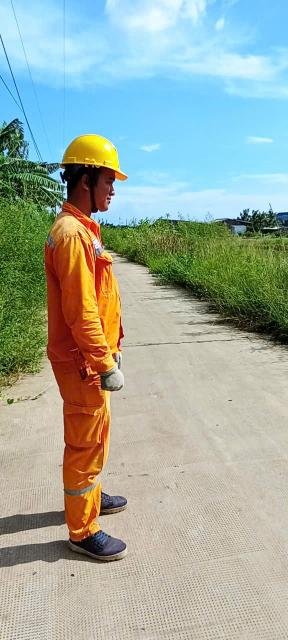gloves: (81, 356, 135, 400)
helmet: (46, 126, 147, 201)
shoes: (66, 517, 131, 569), (91, 488, 133, 517)
